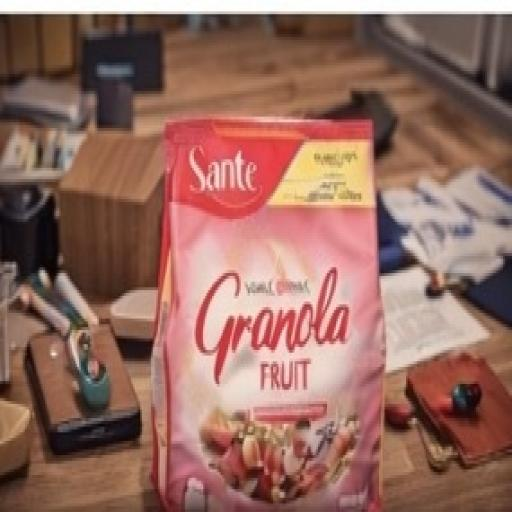granola: (132, 104, 411, 506)
